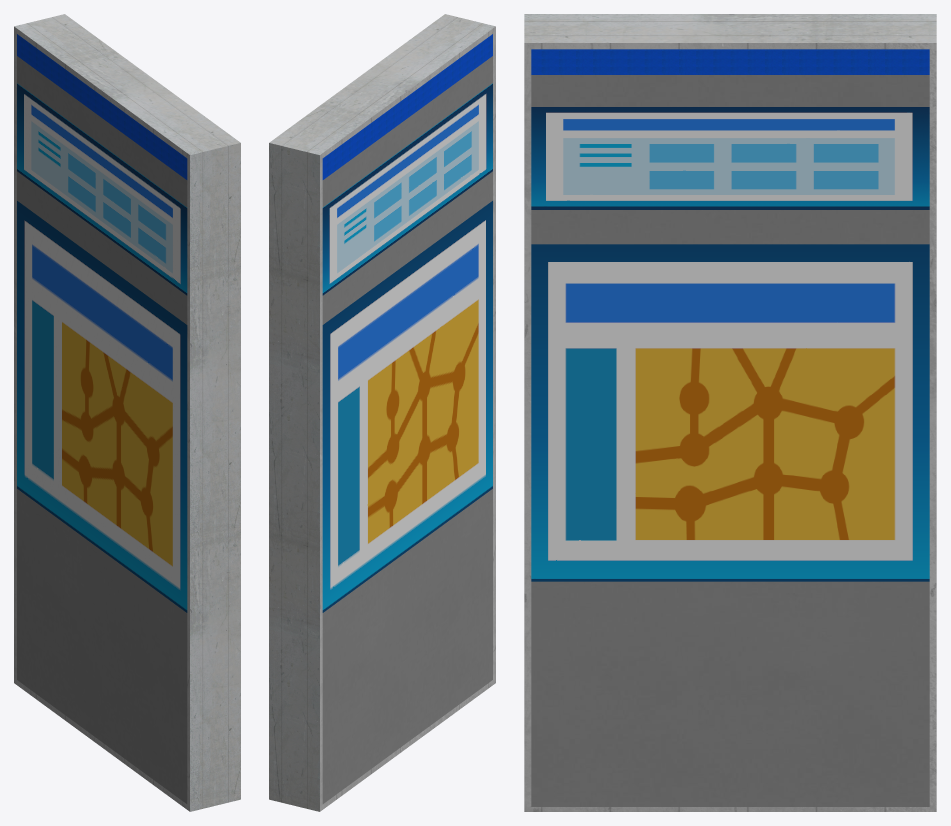
The model's file is WayFinder.obj.
3 views of the same model, side by side, from view 1: azimuth 30°, elevation 25°; view 2: azimuth 150°, elevation 25°; view 3: azimuth 270°, elevation 25° (orthographic). The views are drawn at different scales.
Parts seen in each view (by area): view 1: Mesh1 Model; view 2: Mesh1 Model; view 3: Mesh1 Model.
Boxes of the visible parts, x1,y1,x2,y2 form: Mesh1 Model: (14,14,240,811); Mesh1 Model: (269,14,495,811); Mesh1 Model: (524,14,936,811).
Bounding box in the file's own units: 0.2 × 2.47 × 1.2.
Materials: 6 (6 with a texture image).
